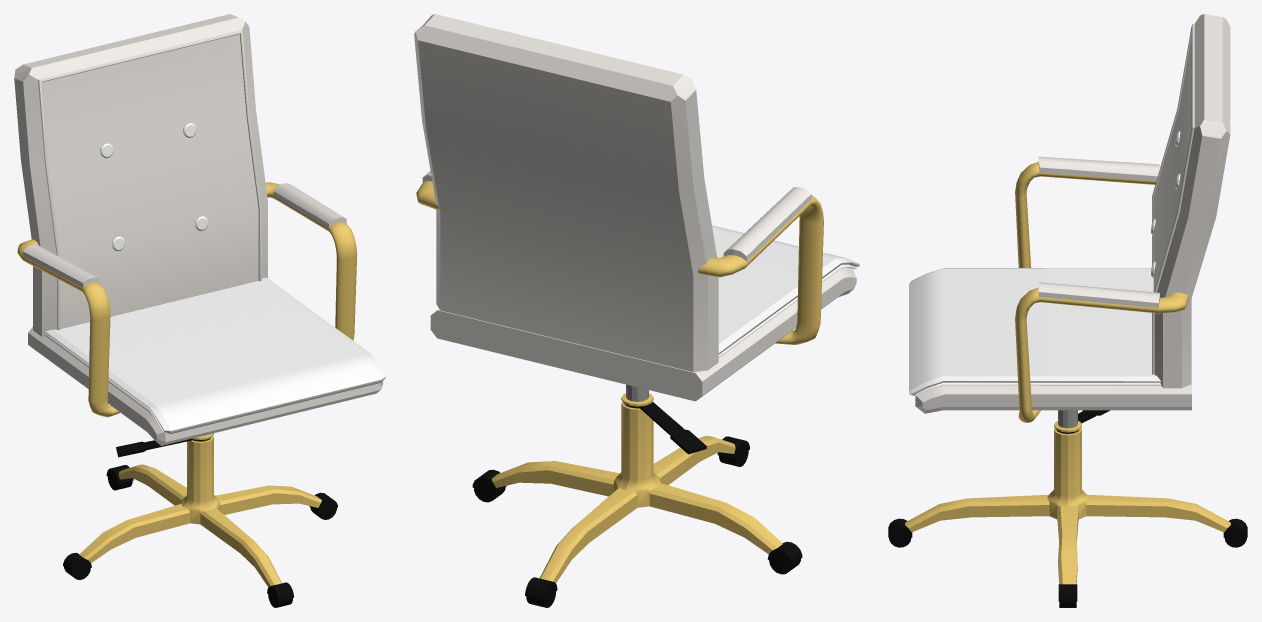
The model's file is escritorio_silla.fbx.
3 views of the same model, side by side, from view 1: azimuth 30°, elevation 25°; view 2: azimuth 150°, elevation 25°; view 3: azimuth 270°, elevation 25° (orthographic). The views are drawn at different scales.
Parts seen in each view (by area): view 1: silla; view 2: silla; view 3: silla.
Boxes of the visible parts, x1,y1,x2,y2 form: silla: (14,14,385,607); silla: (414,14,859,607); silla: (888,14,1247,607).
Bounding box in the file's own units: 30.05 × 48.4 × 33.05.
1 material, 1 textured.
